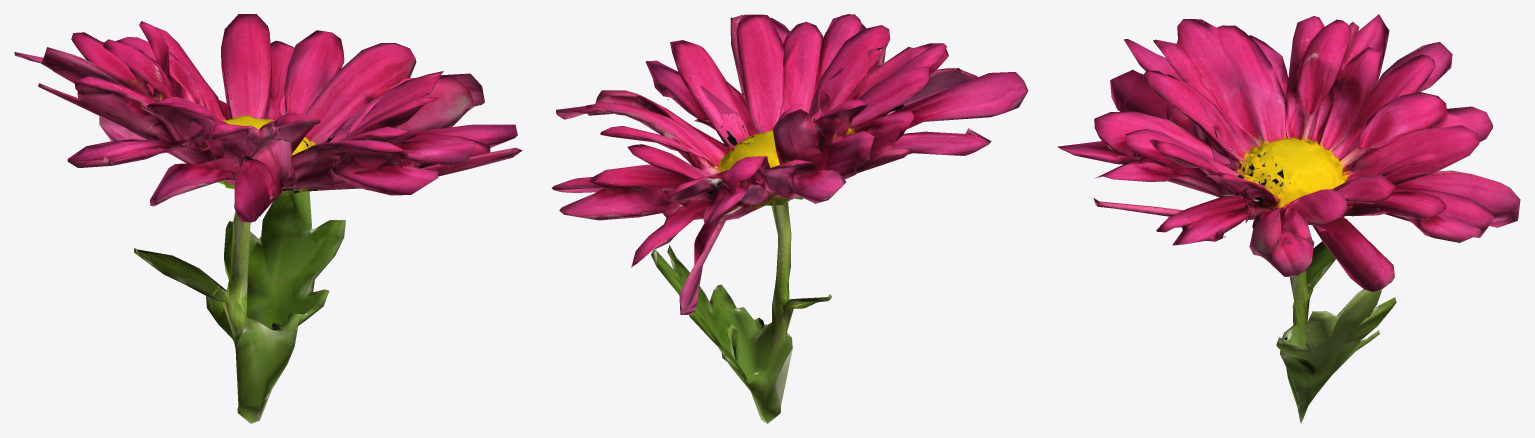
The model's file is mum.glb.
3 views of the same model, side by side, from view 1: azimuth 30°, elevation 25°; view 2: azimuth 150°, elevation 25°; view 3: azimuth 270°, elevation 25° (orthographic). The views are drawn at different scales.
Visible parts, largest first — view 1: Object_2; view 2: Object_2; view 3: Object_2.
Boxes of the visible parts, x1,y1,x2,y2 form: Object_2: (14, 14, 522, 423); Object_2: (551, 14, 1028, 423); Object_2: (1058, 14, 1520, 423).
Bounding box in the file's own units: 5.31 × 4.53 × 5.45.
Materials: 1 (1 with a texture image).
